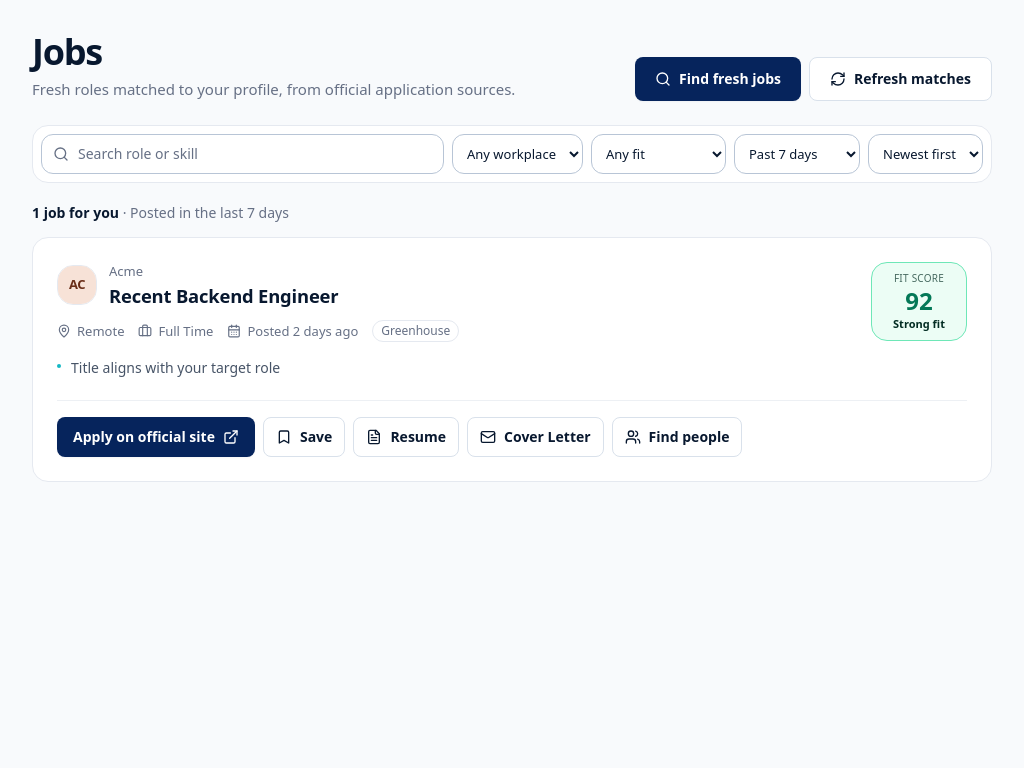
JobDiscovery › re-fetches with the selected posted-within value and updates visible jobs
Expected: the button "Recent Backend Engineer" is shown, [109, 283, 338, 308]
Expected: the text "Older Backend Engineer" is not shown
Select "Past 14 days" in the dropdown named "Posted within days" at coordinates (797, 154), box [734, 134, 860, 174]
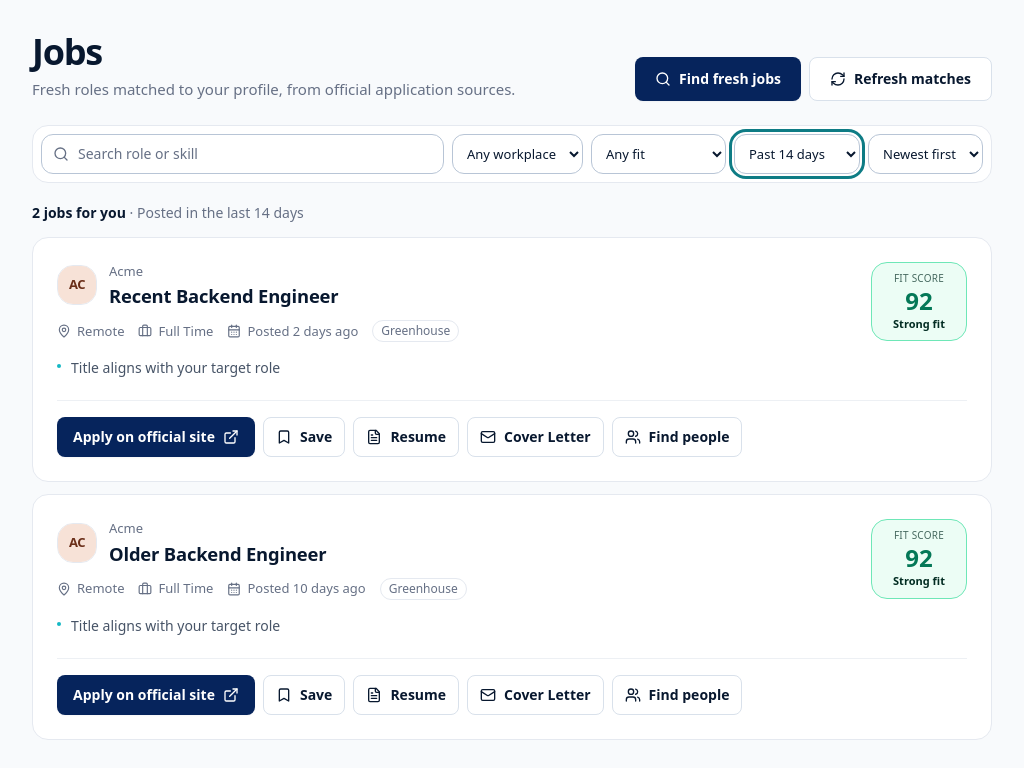
Expected: the button "Recent Backend Engineer" is shown, [109, 283, 338, 308]
Now the button "Older Backend Engineer" is shown, box [109, 541, 326, 566]
